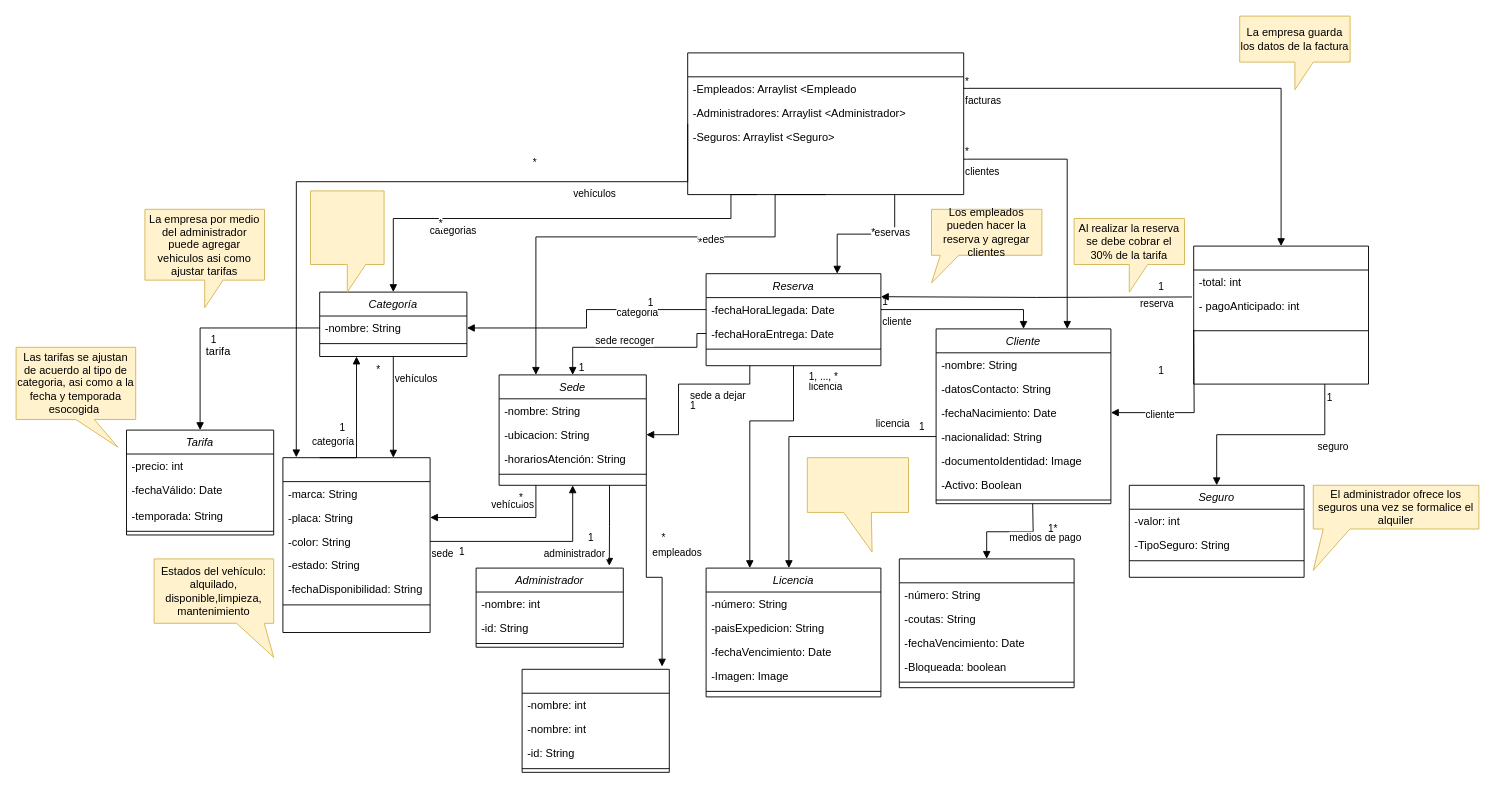
The diagram is 1495 pixels wide and 788 high, and some of its shapes have lost their labels. The shapes that lost their labels are listed below. From the top down, each one's box as (x1, y1, x2, y2) in pixels, then its label:
(687, 52, 964, 195): Empresa
(310, 190, 384, 292): La reserva se hace escogiendo la categoria del vehiculo
(1193, 245, 1368, 384): Factura
(806, 457, 908, 552): Al recoger el vehiculo la empresa realiza el bloqueo de la tarjeta
(282, 457, 430, 632): Vehículo
(898, 558, 1074, 688): Medio DePago
(521, 668, 669, 772): Empleado
